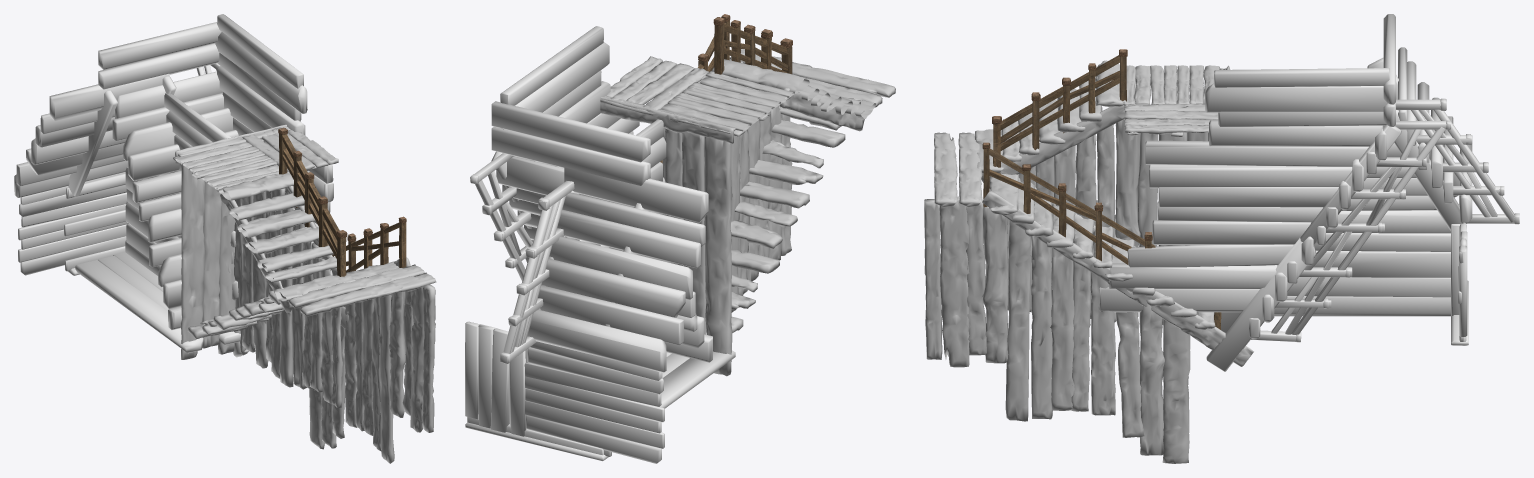
The model's file is SM_StairCase.fbx.
3 views of the same model, side by side, from view 1: azimuth 30°, elevation 25°; view 2: azimuth 150°, elevation 25°; view 3: azimuth 270°, elevation 25° (orthographic). The views are drawn at different scales.
Parts seen in each view (by area): view 1: SM_StairCase, SM_StairCase_ConvexHulls; view 2: SM_StairCase_ConvexHulls, SM_StairCase; view 3: SM_StairCase_ConvexHulls, SM_StairCase.
Part boxes in pixels (left/top/right/bottom): SM_StairCase: left=173, top=124, right=436, bottom=463; SM_StairCase_ConvexHulls: left=14, top=14, right=348, bottom=357; SM_StairCase_ConvexHulls: left=465, top=26, right=735, bottom=463; SM_StairCase: left=600, top=14, right=895, bottom=376; SM_StairCase_ConvexHulls: left=1099, top=14, right=1519, bottom=371; SM_StairCase: left=924, top=49, right=1253, bottom=463.
Bounding box in the file's own units: 4.6 × 8.52 × 11.67.
